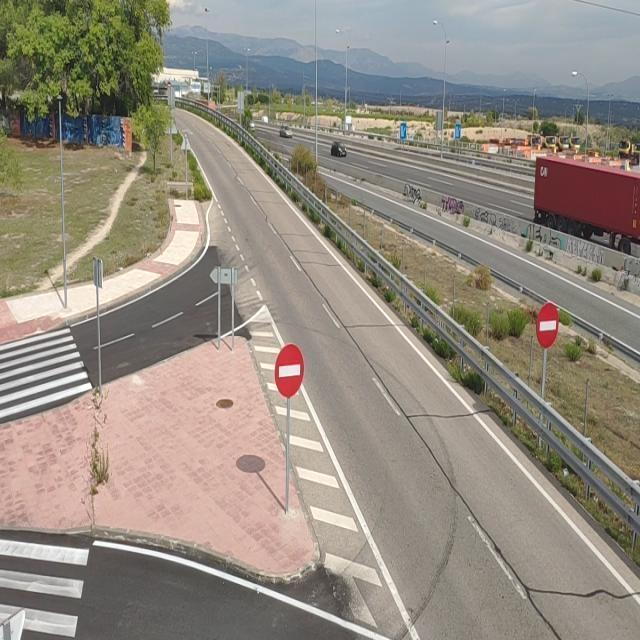Car: (330, 141, 347, 158), (280, 125, 292, 139), (248, 122, 256, 133)
Truck: (533, 154, 640, 255)
Van: (260, 116, 268, 123)
